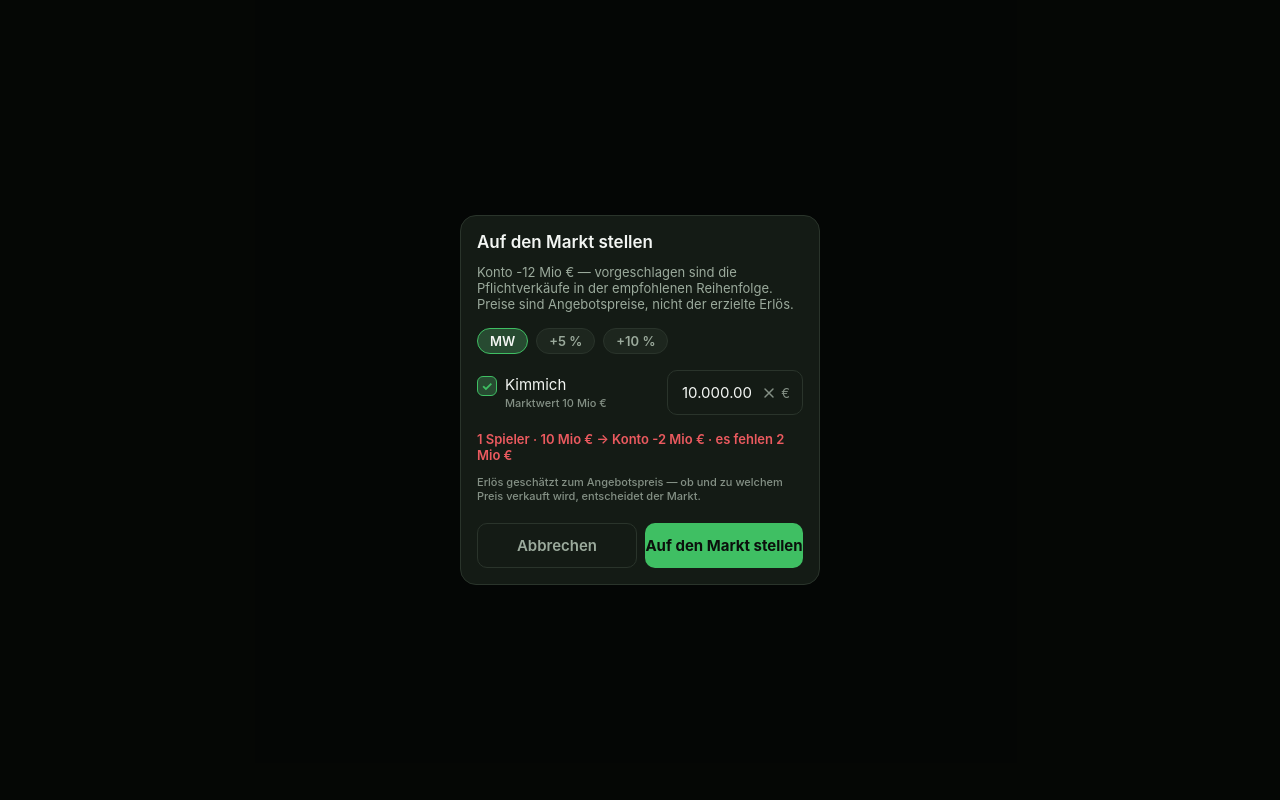
Test case: MarketListingModal › sperrt das Abschicken ohne Auswahl
Click the checkbox labelled "✓ Kimmich Marktwert 10 Mio €" at (542, 392), box [477,375,607,410]
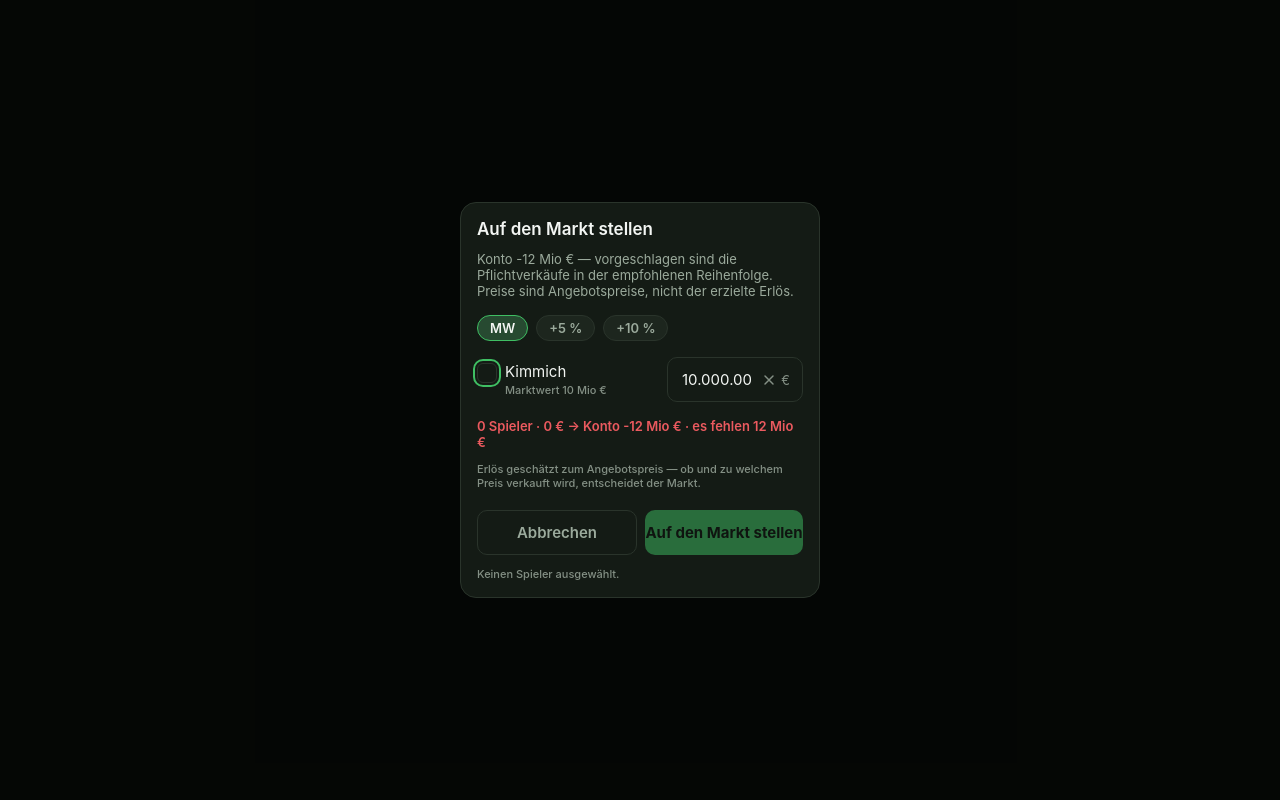
Now the button "Auf den Markt stellen" is disabled, box [645,510,803,555]
Now the text "Keinen Spieler ausgewählt." is shown, box [477,567,619,581]
